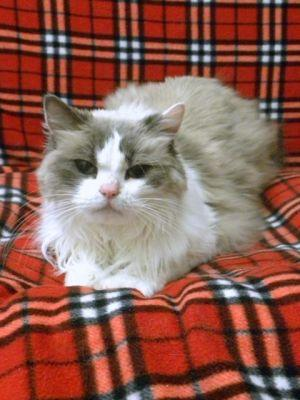ragdoll: (33, 86, 193, 240)
